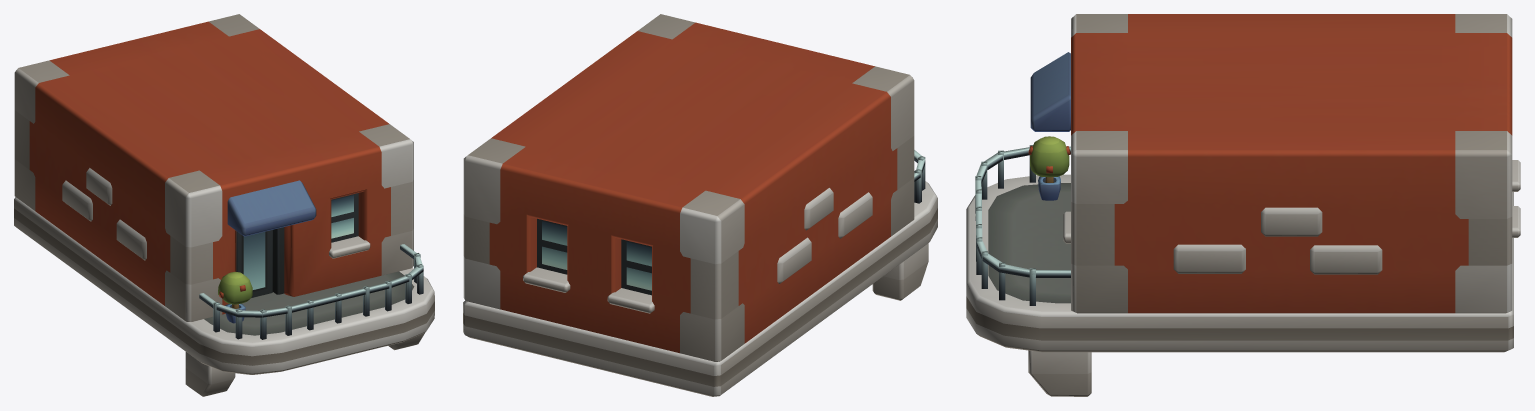
The model's file is appartment_type1_x3_balcony_red.fbx.
The picture shows the model from 3 angles, left to right: view 1: azimuth 30°, elevation 25°; view 2: azimuth 150°, elevation 25°; view 3: azimuth 270°, elevation 25°; orthographic projection. The views are drawn at different scales.
Visible parts, largest first — view 1: appartment_type1_x3_balcony_red, door_appartment_type1_x3_balcony_grey; view 2: appartment_type1_x3_balcony_red; view 3: appartment_type1_x3_balcony_red.
Boxes of the visible parts, left/top/right/bottom form: appartment_type1_x3_balcony_red: left=14, top=14, right=434, bottom=396; door_appartment_type1_x3_balcony_grey: left=237, top=230, right=272, bottom=297; appartment_type1_x3_balcony_red: left=463, top=14, right=937, bottom=396; appartment_type1_x3_balcony_red: left=966, top=14, right=1520, bottom=396.
Size of the model in its own units: 628 by 505 by 1017.
